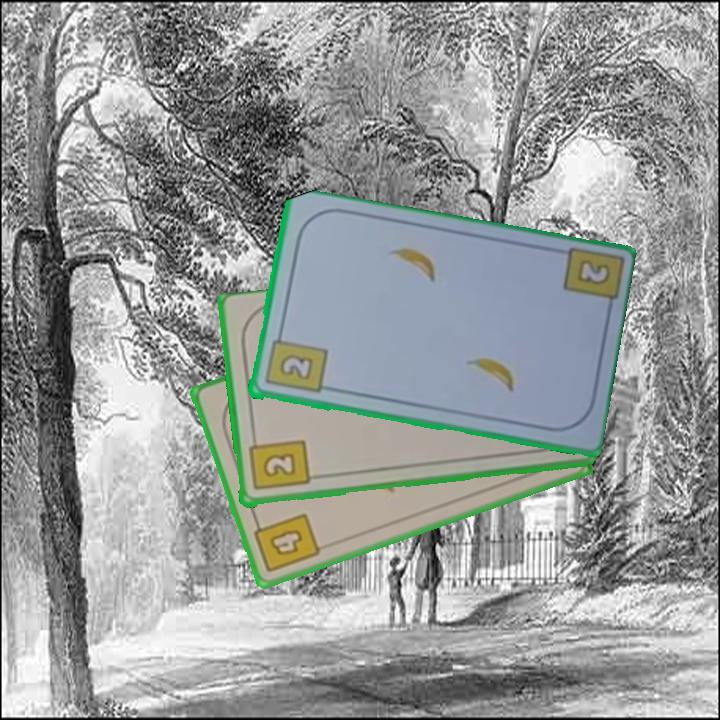2b: (261, 327, 329, 397), (246, 432, 311, 494), (576, 259, 610, 286)
4b: (249, 510, 323, 577)
